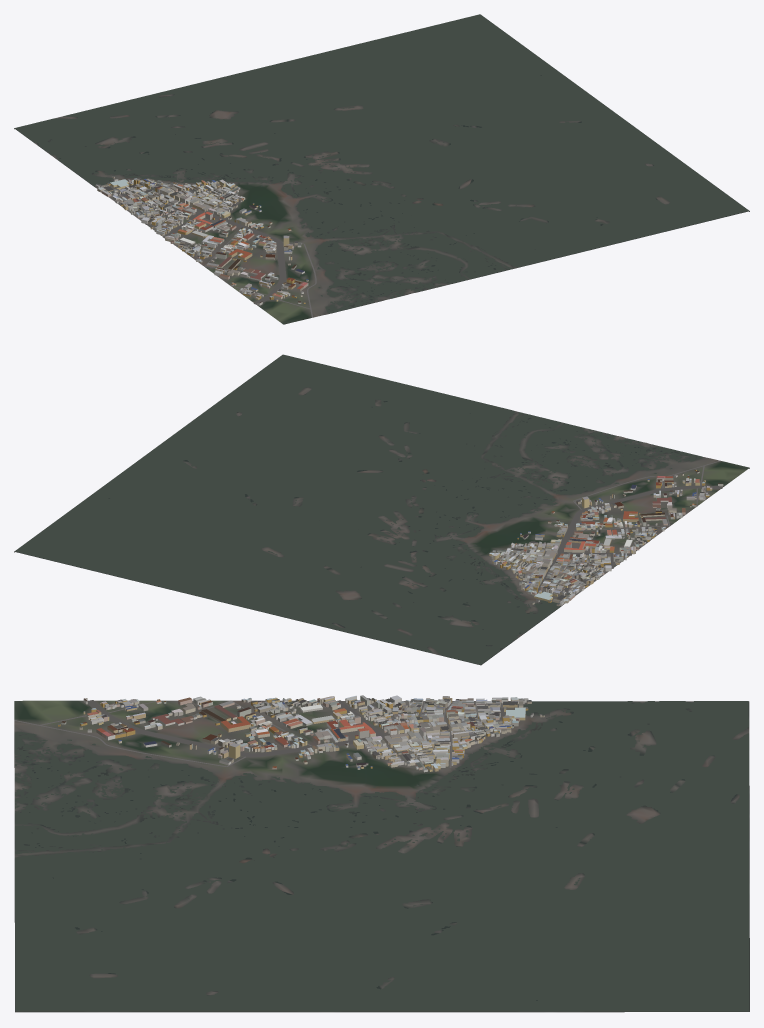
The picture shows the model from 3 angles, top to bottom: view 1: azimuth 30°, elevation 25°; view 2: azimuth 150°, elevation 25°; view 3: azimuth 270°, elevation 25°; orthographic projection. The views are drawn at different scales.
Visible parts, largest first — view 1: water, ground, buildings, roads; view 2: water, ground, buildings, roads; view 3: water, ground, buildings, roads.
Boxes of the visible parts, x1=… form: water: x1=15, y1=14, x2=748, y2=313; ground: x1=14, y1=20, x2=749, y2=324; buildings: x1=95, y1=176, x2=308, y2=305; roads: x1=114, y1=183, x2=316, y2=317; water: x1=15, y1=354, x2=702, y2=664; ground: x1=14, y1=387, x2=749, y2=665; buildings: x1=489, y1=469, x2=723, y2=606; roads: x1=490, y1=460, x2=722, y2=596; water: x1=15, y1=701, x2=749, y2=1011; ground: x1=14, y1=700, x2=749, y2=1012; buildings: x1=58, y1=695, x2=544, y2=772; roads: x1=14, y1=700, x2=510, y2=767.
Size of the model in its own units: 1409 by 28.2 by 1402.
